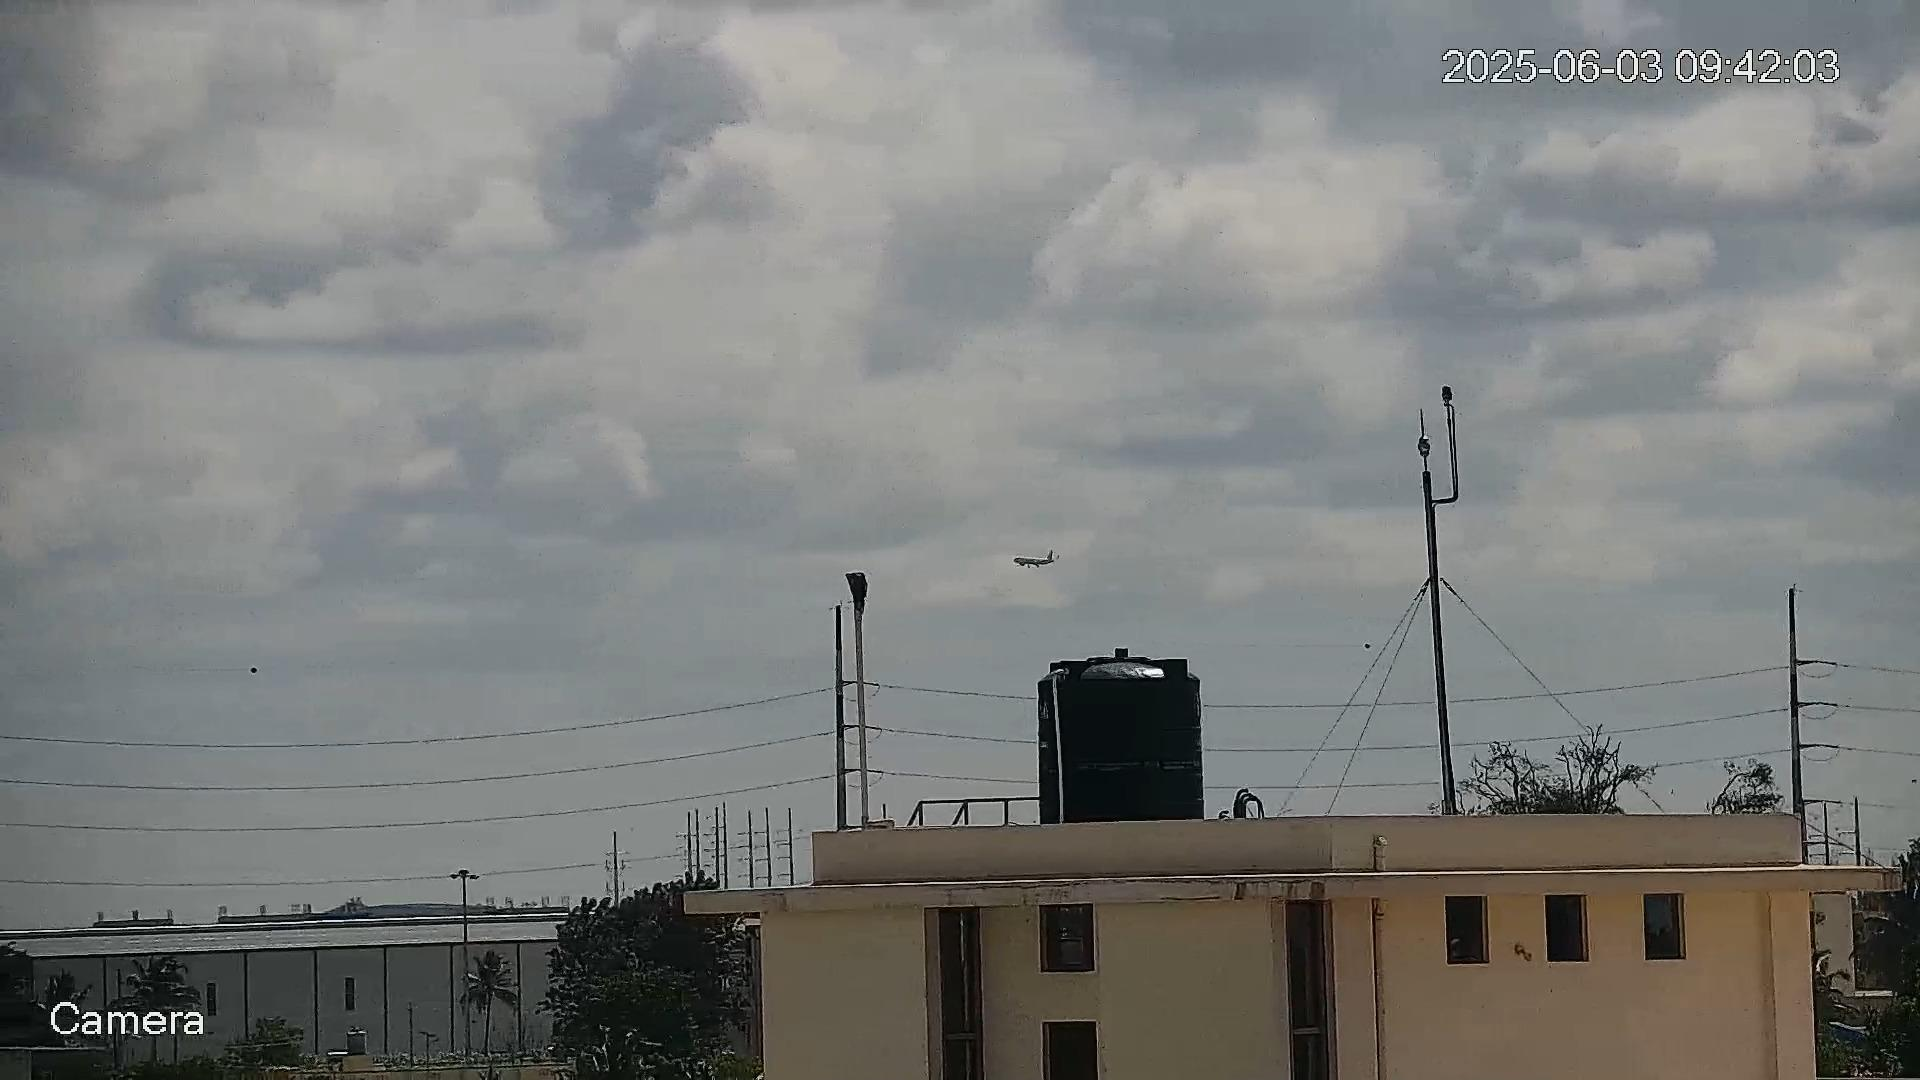Aircraft: (1013, 551, 1060, 568)
